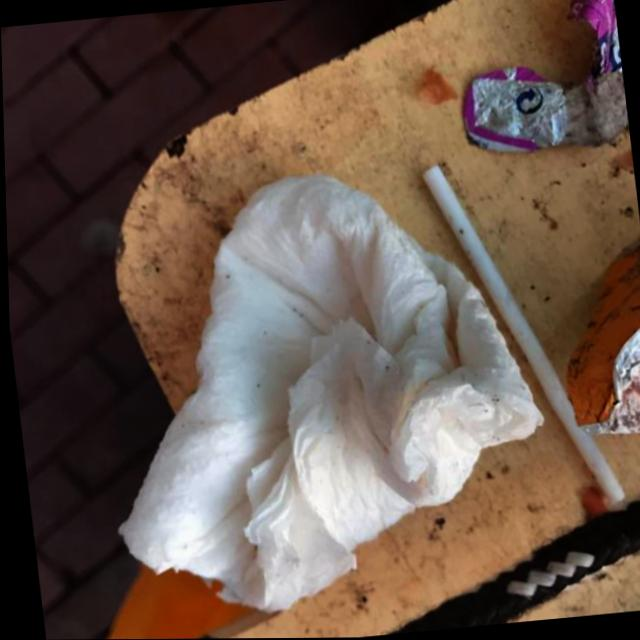Paper: (74, 150, 564, 630)
Plastic: (413, 152, 626, 525), (445, 0, 630, 165), (547, 239, 640, 445)
